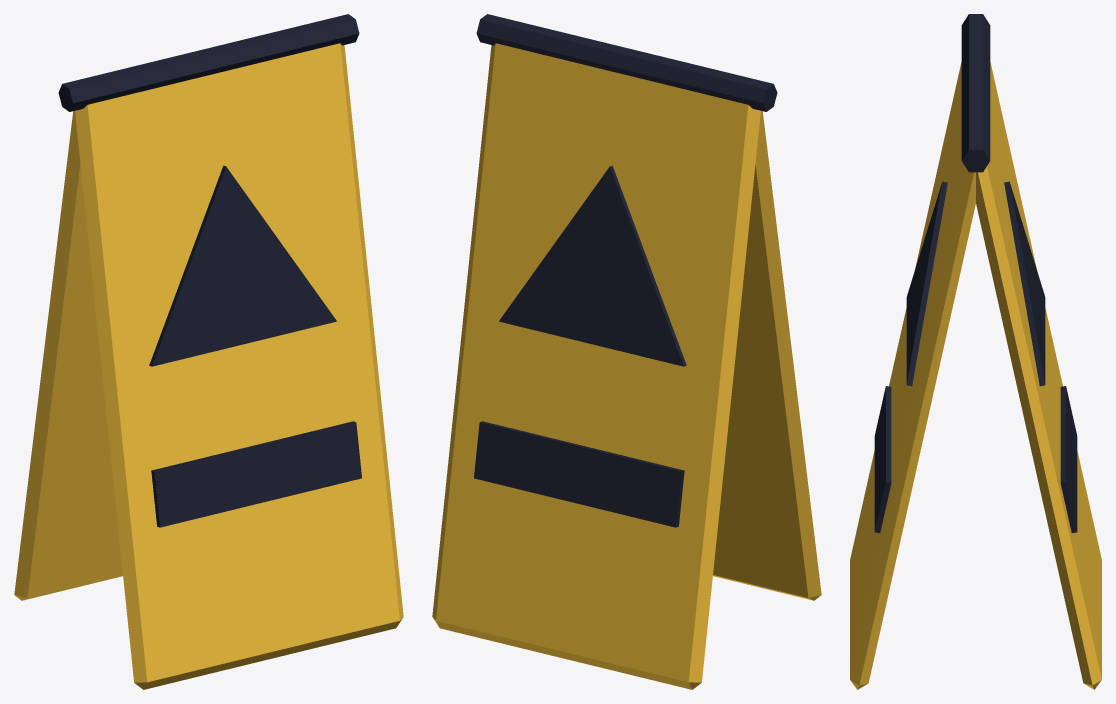
The model's file is sm_env_depot_wet_floor_sign.glb.
3 renders of one model, left to right at view 1: azimuth 30°, elevation 25°; view 2: azimuth 150°, elevation 25°; view 3: azimuth 270°, elevation 25°, orthographic. The views are drawn at different scales.
Parts seen in each view (by area): view 1: Board.001, Board, Triangle.001, TextBand.001, Hinge; view 2: Board, Board.001, Triangle, TextBand, Hinge; view 3: Board, Board.001, Hinge, Triangle, Triangle.001, TextBand, TextBand.001.
Part boxes in pixels (box(x1,y1,x2,y2)): Board.001: box(75, 43, 403, 689); Board: box(14, 111, 122, 600); Triangle.001: box(149, 165, 336, 366); TextBand.001: box(151, 421, 361, 527); Hinge: box(58, 14, 359, 111); Board: box(432, 43, 760, 689); Board.001: box(713, 111, 821, 600); Triangle: box(499, 165, 686, 366); TextBand: box(474, 421, 684, 527); Hinge: box(476, 14, 777, 111); Board: box(976, 62, 1101, 689); Board.001: box(850, 62, 975, 689); Hinge: box(961, 14, 990, 172); Triangle: box(1004, 181, 1045, 386); Triangle.001: box(906, 181, 947, 386); TextBand: box(1060, 386, 1077, 533); TextBand.001: box(874, 386, 891, 533).
Size of the model in its own units: 0.34 by 0.6386 by 0.266.
